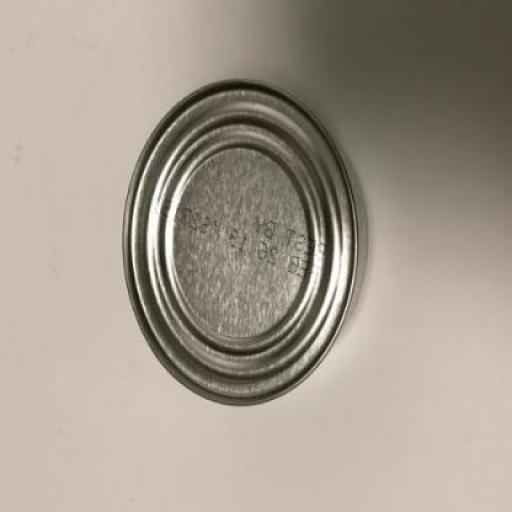metal: (121, 81, 357, 409)
